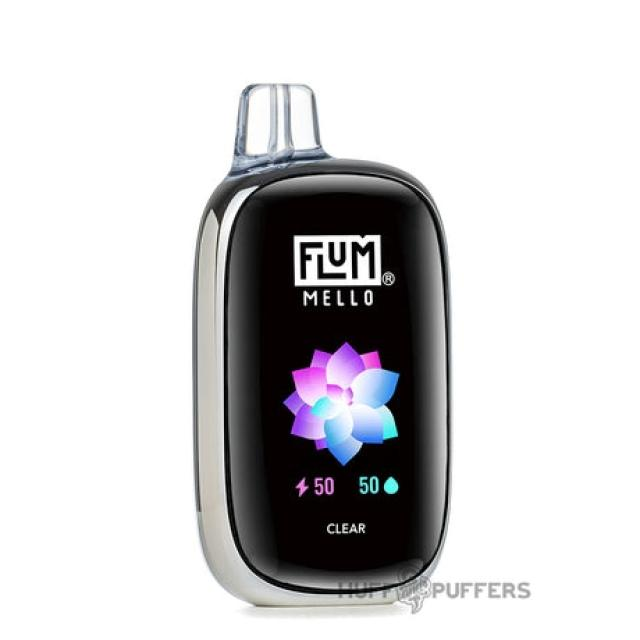Hazard: (189, 81, 454, 609)
